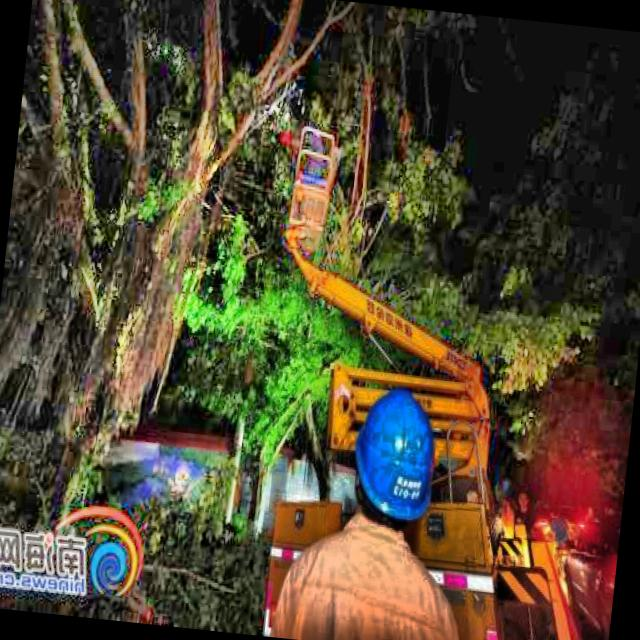helmet: (335, 373, 446, 566)
